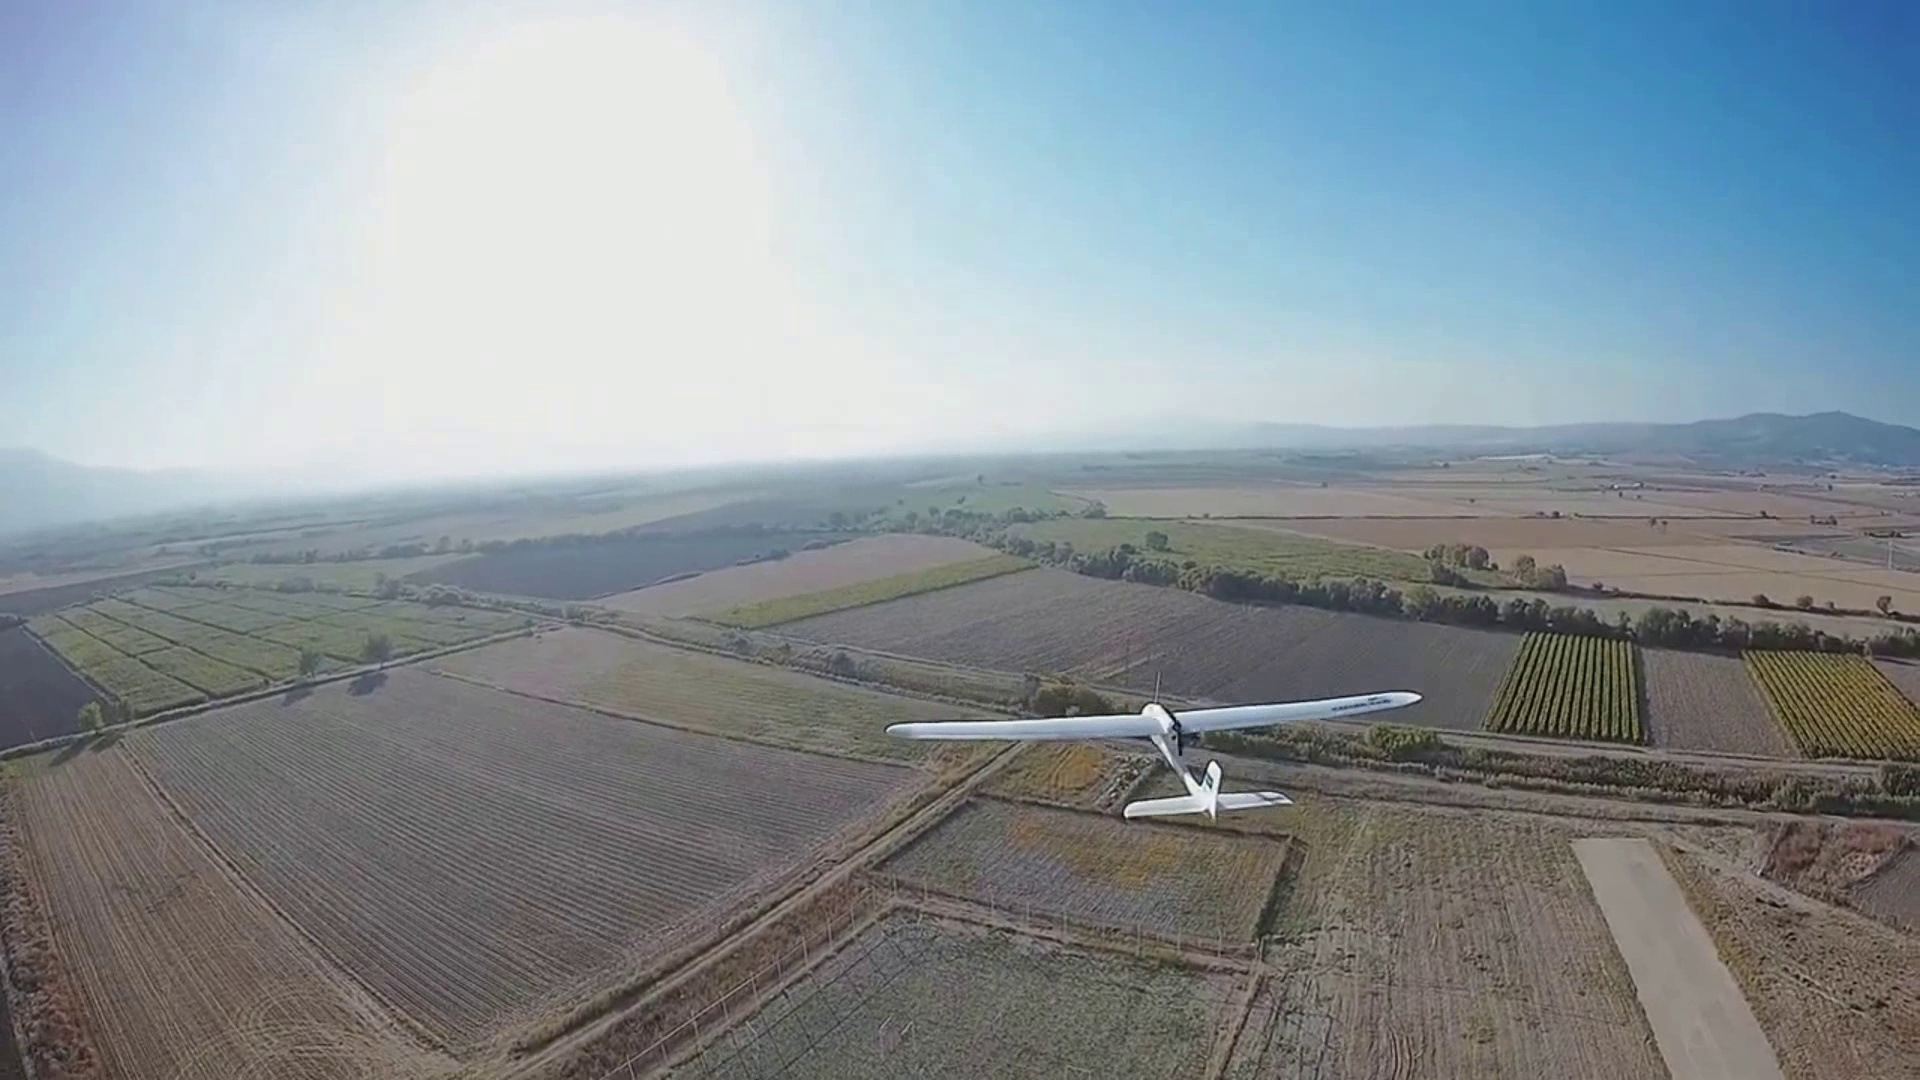airplane: (877, 680, 1421, 820)
